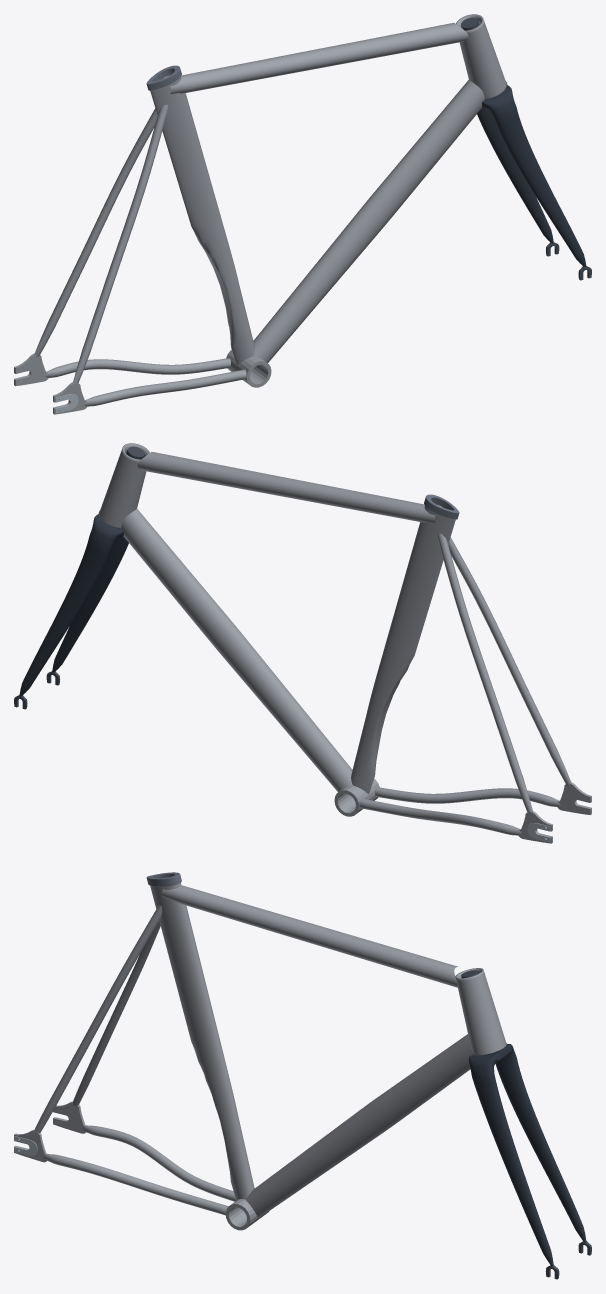
The model's file is cinelli-vigorelli-rainbow-m.glb.
The picture shows the model from 3 angles, top to bottom: view 1: azimuth 30°, elevation 25°; view 2: azimuth 150°, elevation 25°; view 3: azimuth 330°, elevation 25°; orthographic projection.
Visible parts, largest first — view 1: paint_down, paint_seat, paint_top, fork_blade_1, paint_seatstay_1, paint_seatstay_-1, paint_head, fork_blade_-1, paint_chainstay_-1, paint_chainstay_1, paint_bottom_bracket, rear_dropout_-1 (+2 smaller); view 2: paint_down, paint_seat, paint_top, fork_blade_-1, paint_seatstay_-1, paint_seatstay_1, paint_head, fork_blade_1, paint_chainstay_1, paint_chainstay_-1, paint_bottom_bracket, rear_dropout_1 (+2 smaller); view 3: paint_down, paint_seat, paint_top, fork_blade_1, fork_blade_-1, paint_head, paint_seatstay_1, paint_chainstay_1, paint_chainstay_-1, paint_seatstay_-1, fork_crown, paint_bottom_bracket (+1 smaller).
Part boxes in pixels (x1,y1,x2,y2): paint_down: (253,80,484,362); paint_seat: (150,77,254,364); paint_top: (170,23,468,94); fork_blade_1: (495,109,586,267); paint_seatstay_1: (73,104,168,382); paint_seatstay_-1: (34,108,157,357); paint_head: (456,14,506,98); fork_blade_-1: (477,107,553,243); paint_chainstay_-1: (45,358,230,377); paint_chainstay_1: (84,369,246,406); paint_bottom_bracket: (226,349,271,387); rear_dropout_-1: (14,353,48,386); paint_down: (121,509,352,791); paint_seat: (351,506,455,793); paint_top: (137,452,435,523); fork_blade_-1: (19,538,110,696); paint_seatstay_-1: (437,533,532,811); paint_seatstay_1: (448,537,571,786); paint_head: (99,443,149,527); fork_blade_1: (52,536,128,672); paint_chainstay_1: (375,787,560,806); paint_chainstay_-1: (359,798,521,835); paint_bottom_bracket: (334,778,379,816); rear_dropout_1: (557,782,591,814); paint_down: (245,1034,472,1217); paint_seat: (150,883,254,1200); paint_top: (162,885,458,987); fork_blade_1: (472,1074,553,1266); fork_blade_-1: (495,1058,586,1242); paint_head: (455,968,506,1055); paint_seatstay_1: (34,905,162,1133); paint_chainstay_1: (43,1153,228,1215); paint_chainstay_-1: (82,1125,236,1201); paint_seatstay_-1: (73,921,160,1105); fork_crown: (468,1044,516,1078); paint_bottom_bracket: (225,1199,269,1230).
Bounding box in the file's own units: 1 × 0.5857 × 0.1443.
